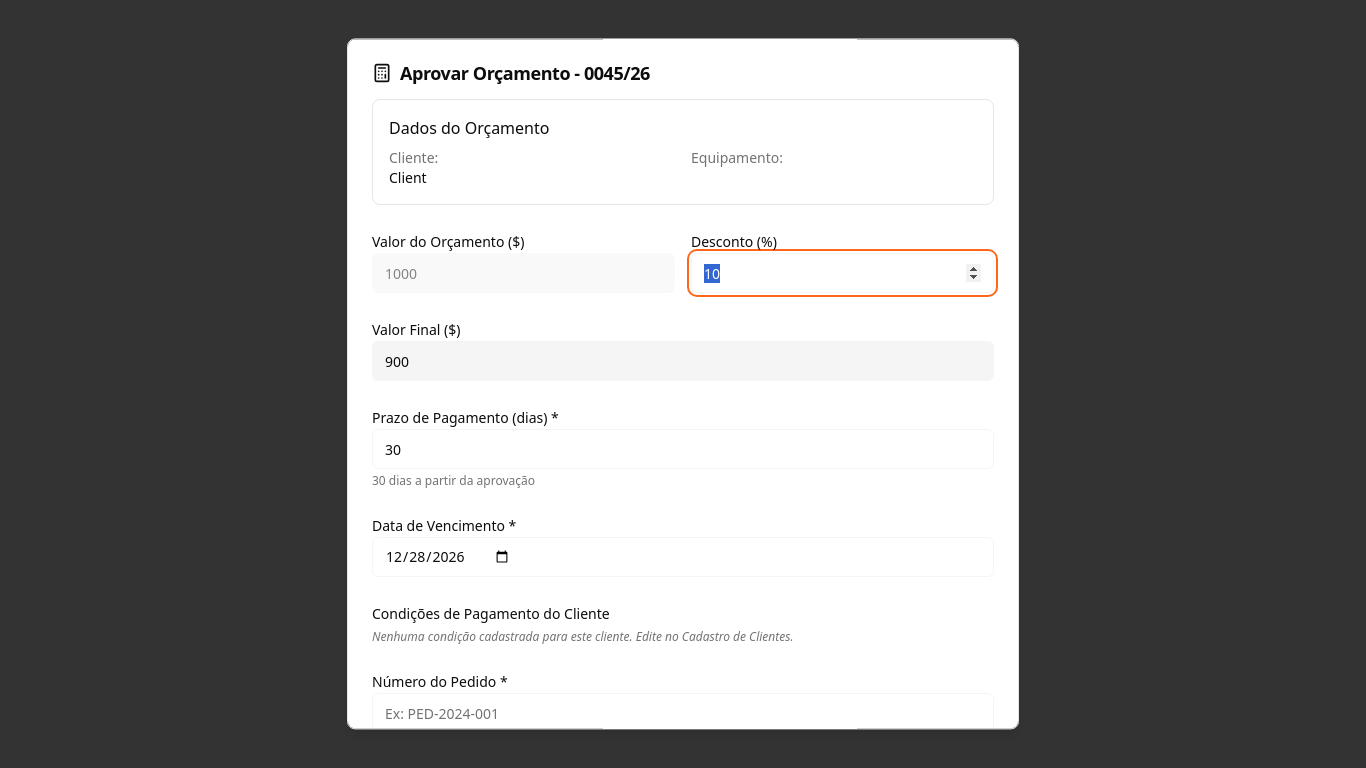
Test case: approval price comparison › shows 1000 original, 10 percent discount and 900 final, including after editing discount
Expected: the number field labelled "Valor do Orçamento ($)" holds "1000", 372,253 -> 675,293
Expected: the number field labelled "Valor Final ($)" holds "900", 372,341 -> 994,381
Replace the text in the number field labelled "Desconto (%)" with "20": (842, 273) 691,253 -> 994,293
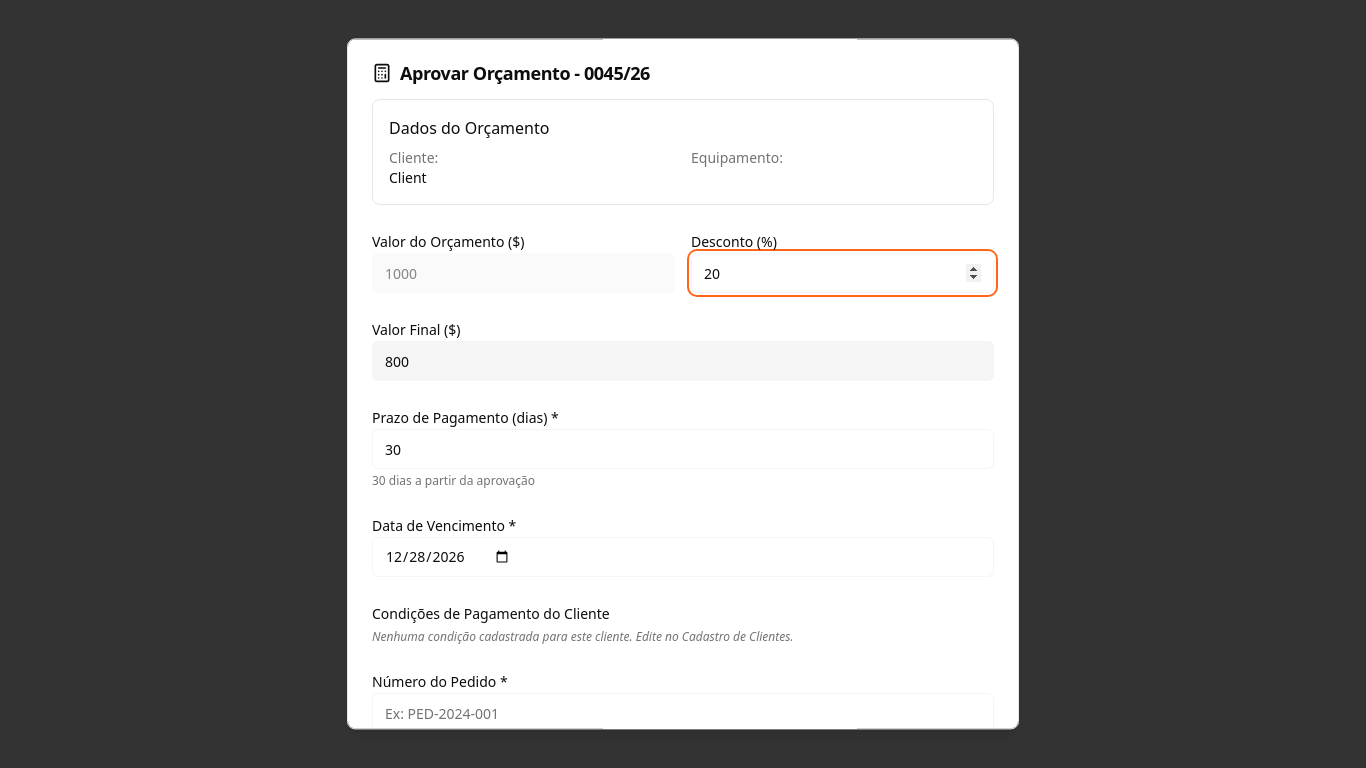
Expected: the number field labelled "Valor do Orçamento ($)" holds "1000", 372,253 -> 675,293
Result: the number field labelled "Valor Final ($)" holds "800" at 372,341 -> 994,381
